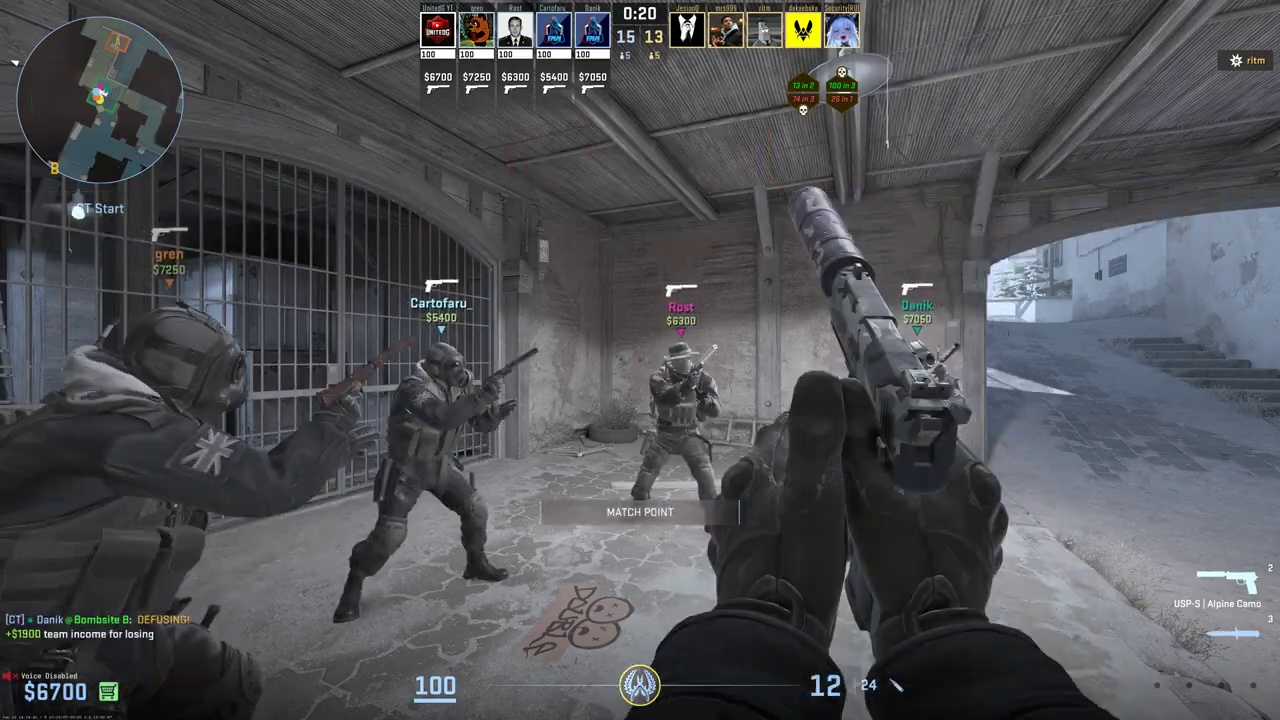CT: (0, 306, 270, 720), (366, 342, 509, 611), (635, 345, 721, 506), (899, 338, 958, 442)
